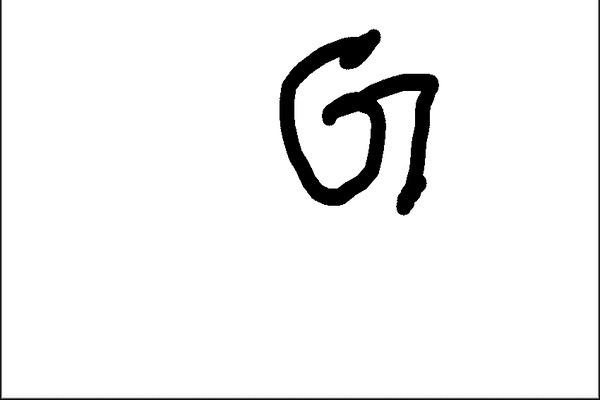G: (274, 24, 440, 221)
